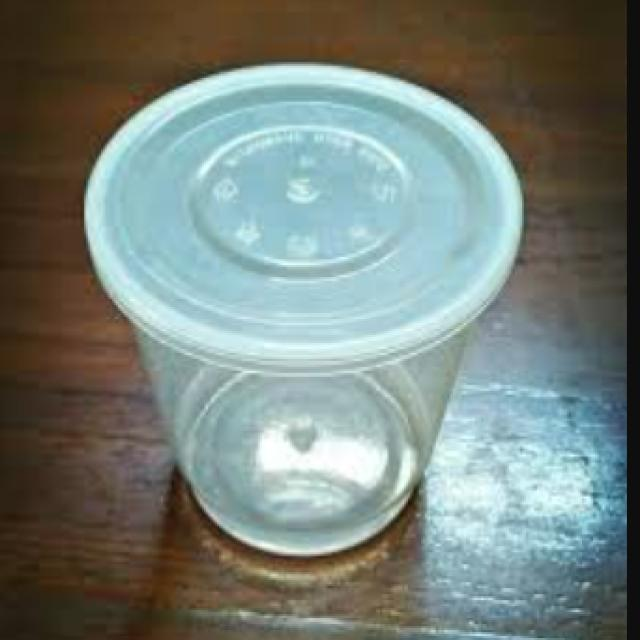GelasPlastik: (80, 58, 526, 558)
